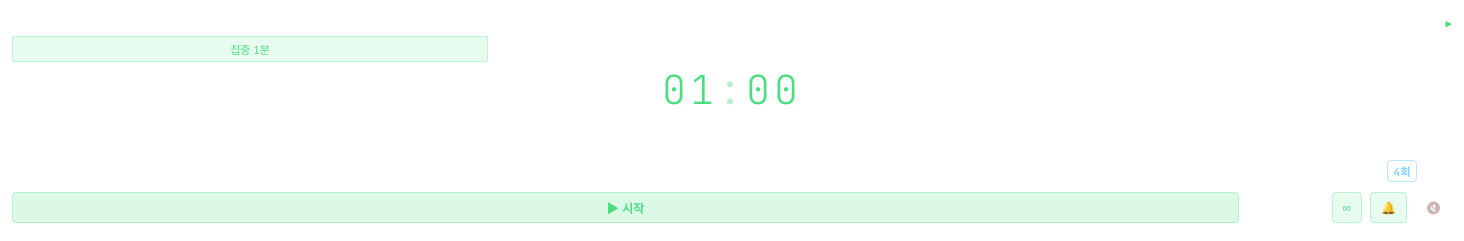
Test: PomodoroTimer autoStart phase transitions › should auto-start focus phase after break completes
Start the timer (focus phase)
Step 1. Click the button "▶ 시작" → {"x": 625, "y": 208}, box [12, 192, 1239, 223]
Wait 124000 ms
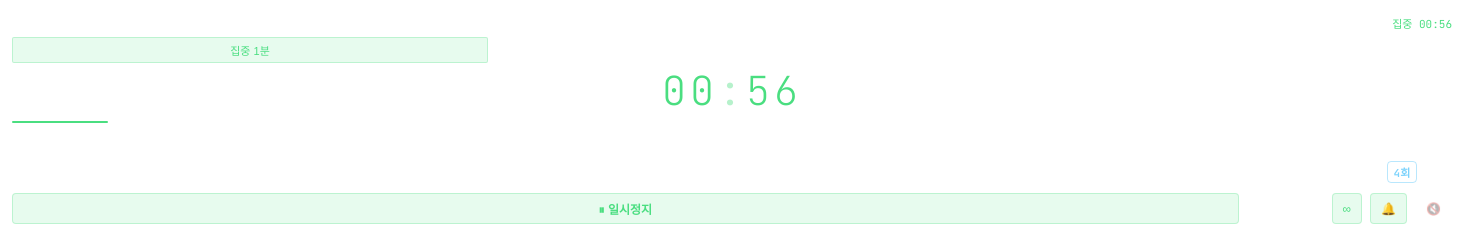
Expected: the button "⏸ 일시정지" is shown, [12, 193, 1239, 224]
Expected: the text "집중 00:56" is shown, [1392, 15, 1452, 31]
